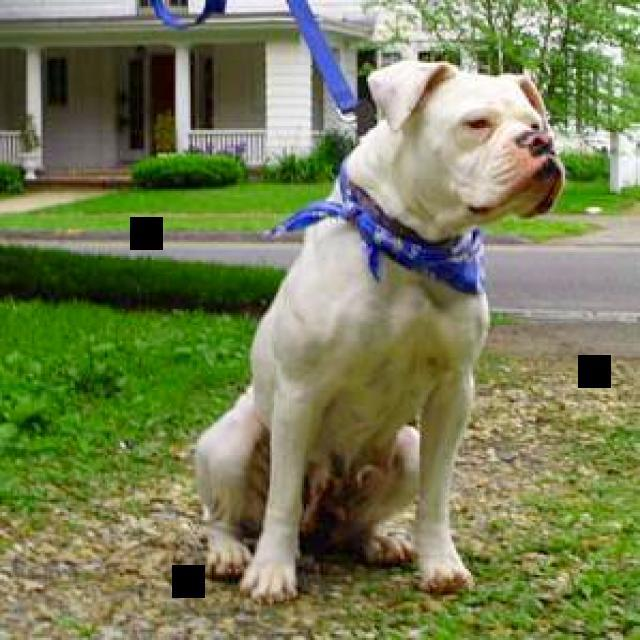adult_dog: (191, 59, 566, 605)
